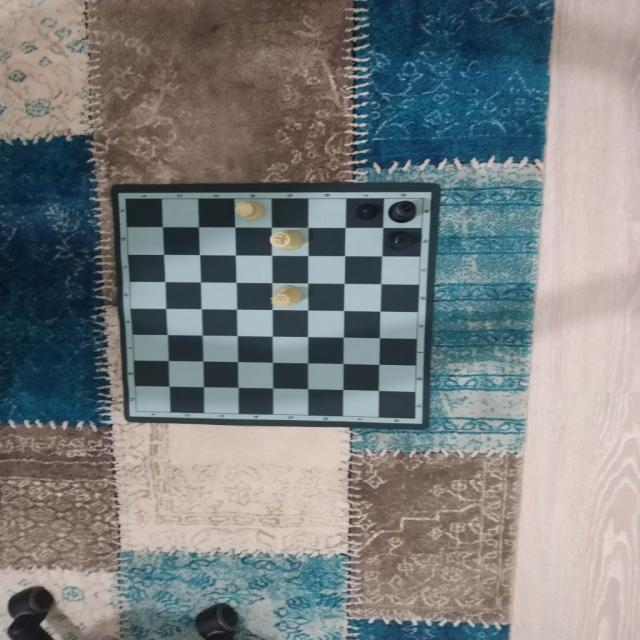corner: (116, 193, 136, 205), (414, 192, 432, 205), (127, 406, 144, 418), (407, 414, 424, 424)
